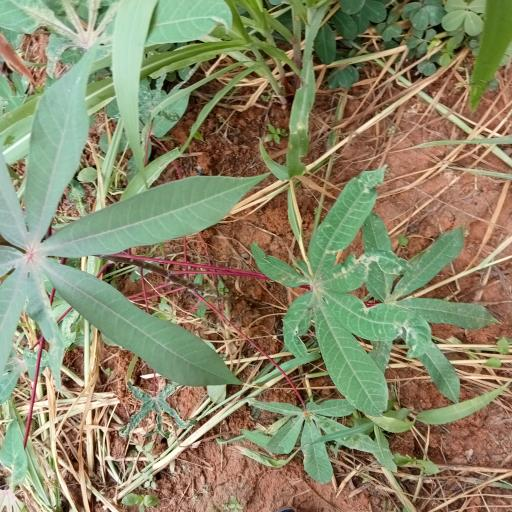Cassava_Mosaic: (4, 81, 257, 389), (266, 189, 428, 406)
